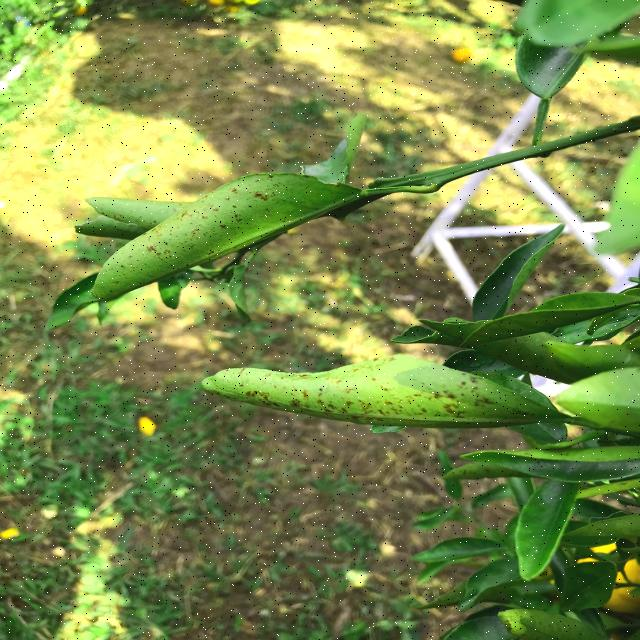melanose: (71, 165, 382, 311), (174, 330, 541, 452)
